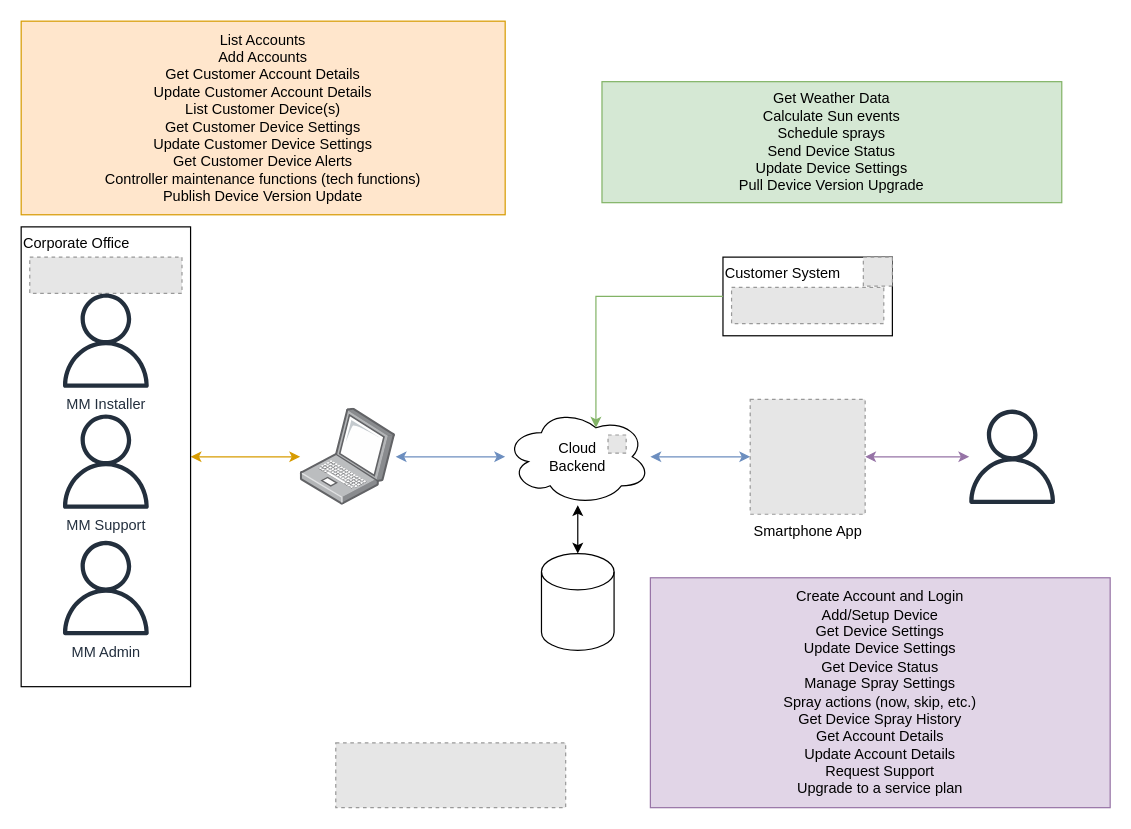
Image size: 1131x829. Some labels were removed from this diagram. Grey dashed boxes stand in for pictures. The shapes that lost their labels are listed below. From the top down, each one's centre as x and y in pixels, then its label:
(x=347, y=456): Web Interface
(x=1011, y=456): Customer
(x=577, y=601): Database
